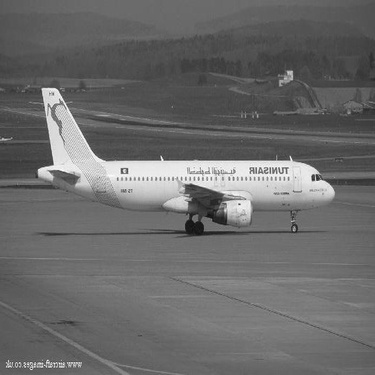airplane: (25, 83, 338, 237)
